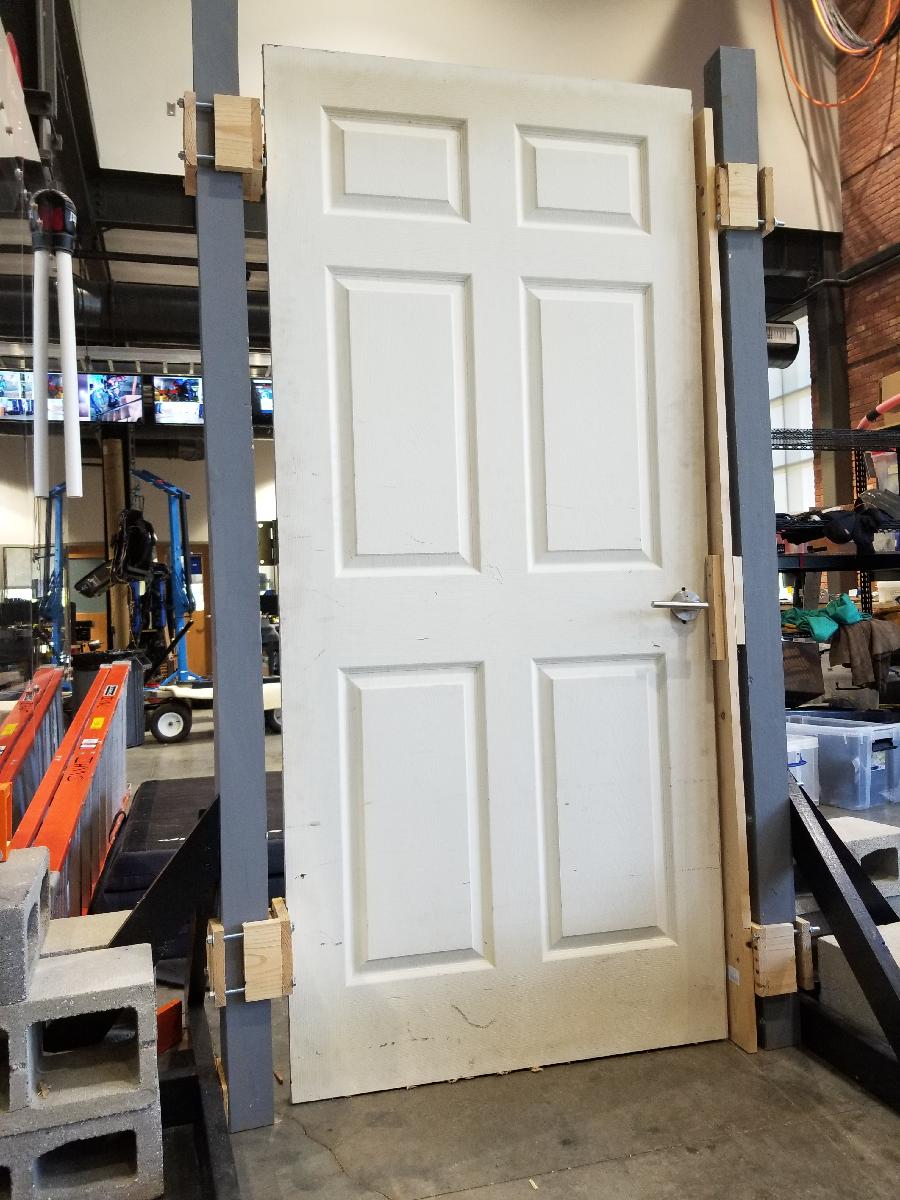door: (258, 39, 738, 1107)
doorHandle: (649, 585, 713, 635)
